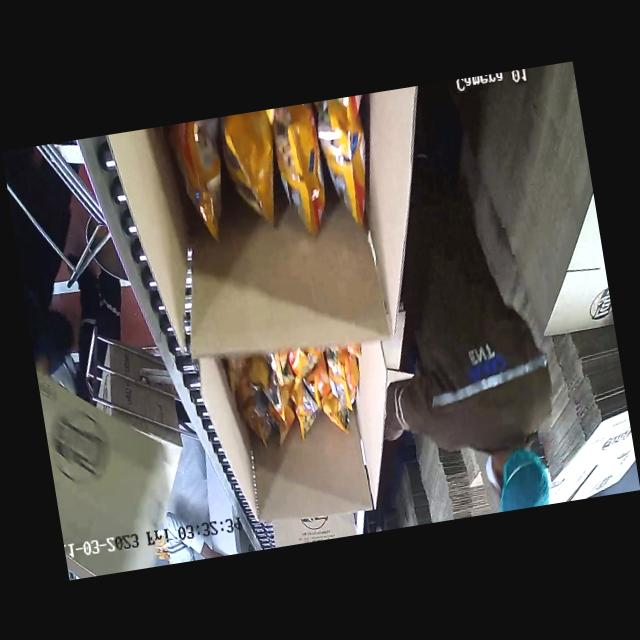cheese: (159, 90, 406, 266), (244, 339, 370, 459)
